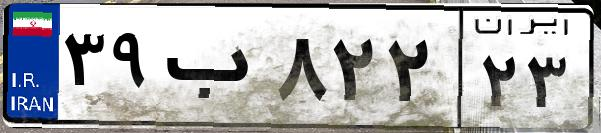2: (385, 28, 445, 110), (330, 28, 385, 110), (475, 38, 525, 113)
3: (57, 26, 110, 100), (525, 38, 570, 115)
8: (270, 28, 330, 110)
9: (110, 28, 158, 98)
ب: (158, 20, 270, 120)
